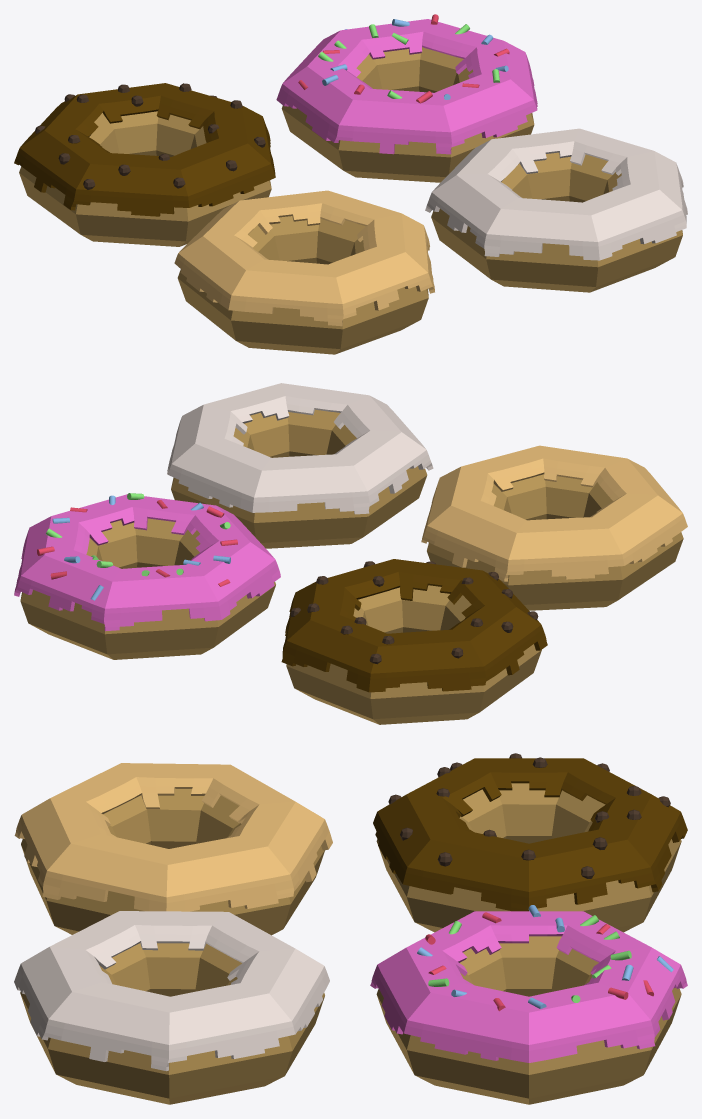
Rendered from donuts.fbx.
3 renders of one model, top to bottom at view 1: azimuth 30°, elevation 25°; view 2: azimuth 150°, elevation 25°; view 3: azimuth 270°, elevation 25°, orthographic. The views are drawn at different scales.
Parts seen in each view (by area): view 1: Torus.003, Torus.008, Torus.002, Torus.005, Torus.007, Torus.004, Torus.006, Torus.001; view 2: Torus.008, Torus.003, Torus.005, Torus.002, Torus.001, Torus.006, Torus.004, Torus.007; view 3: Torus.003, Torus.008, Torus.002, Torus.005, Torus.001, Torus.004, Torus.006, Torus.007.
Boxes of the visible parts, x1,y1,x2,y2 form: Torus.003: [425, 128, 687, 260]; Torus.008: [174, 190, 434, 326]; Torus.002: [276, 19, 537, 154]; Torus.005: [14, 83, 275, 216]; Torus.007: [177, 216, 428, 354]; Torus.004: [431, 152, 682, 292]; Torus.006: [19, 111, 271, 246]; Torus.001: [281, 47, 534, 182]; Torus.008: [421, 445, 687, 581]; Torus.003: [167, 383, 433, 514]; Torus.005: [281, 559, 547, 692]; Torus.002: [14, 494, 280, 631]; Torus.001: [20, 518, 275, 659]; Torus.006: [286, 585, 541, 724]; Torus.004: [171, 409, 427, 548]; Torus.007: [427, 474, 683, 610]; Torus.003: [14, 911, 329, 1071]; Torus.008: [14, 763, 332, 911]; Torus.002: [370, 911, 687, 1062]; Torus.005: [373, 758, 687, 911]; Torus.001: [376, 936, 681, 1104]; Torus.004: [20, 943, 324, 1104]; Torus.006: [376, 783, 681, 932]; Torus.007: [21, 788, 324, 935].
Bounding box in the file's own units: 324 × 54.94 × 323.
